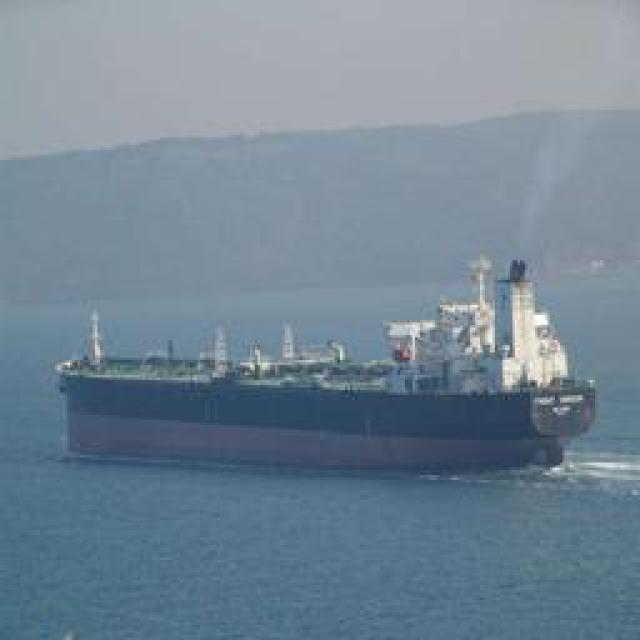Ship: (55, 257, 595, 475)
